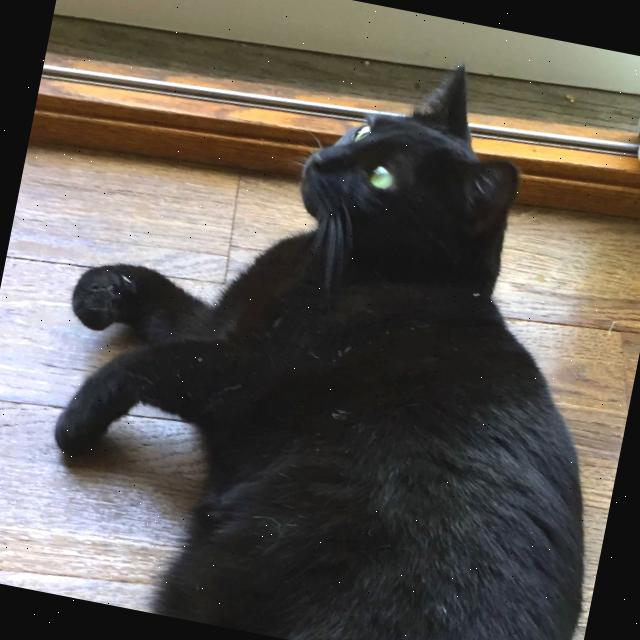bombay_cat: (232, 17, 593, 376)
